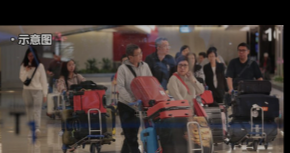without_mask: (176, 61, 190, 75), (160, 42, 170, 55), (134, 49, 143, 63), (237, 47, 247, 59), (186, 55, 195, 65), (207, 53, 216, 62), (67, 61, 75, 71), (27, 53, 35, 62), (197, 55, 205, 63), (181, 48, 189, 56)
